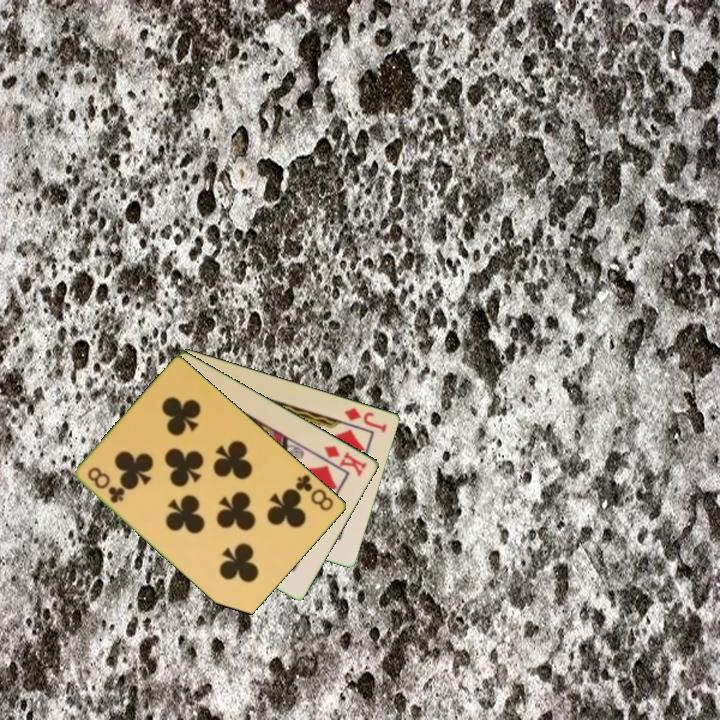8c: (292, 471, 337, 514), (84, 463, 128, 506)
Jd: (341, 404, 390, 435)
Kd: (320, 441, 370, 480)
